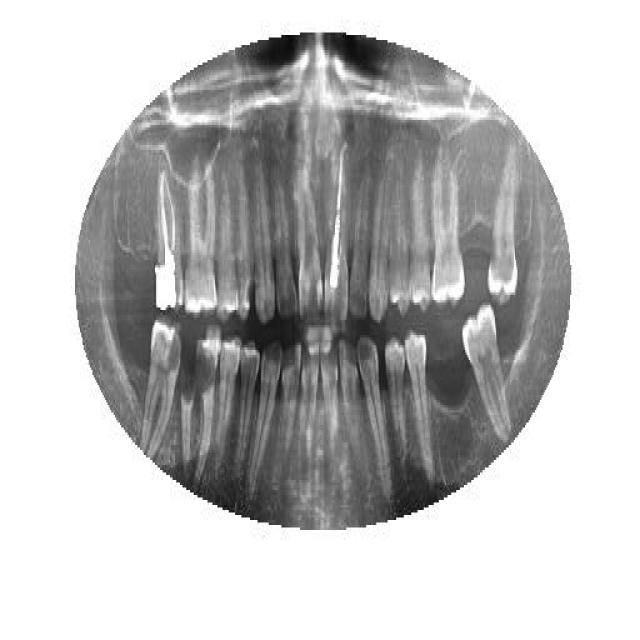Cavity: (179, 325, 221, 480), (142, 322, 182, 460), (235, 172, 257, 322)
Implant: (154, 172, 186, 312), (325, 132, 346, 312)
